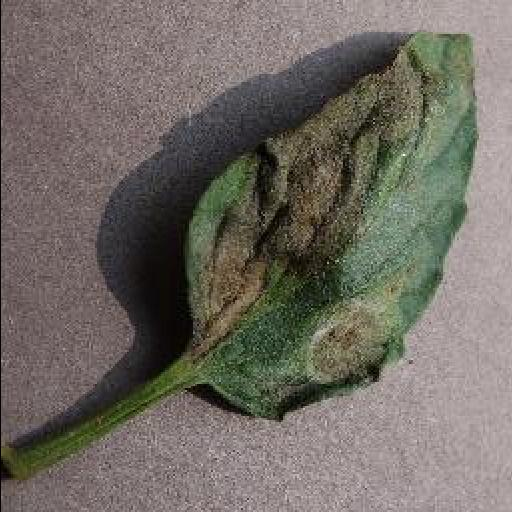disease_tomato: (180, 32, 484, 426)
